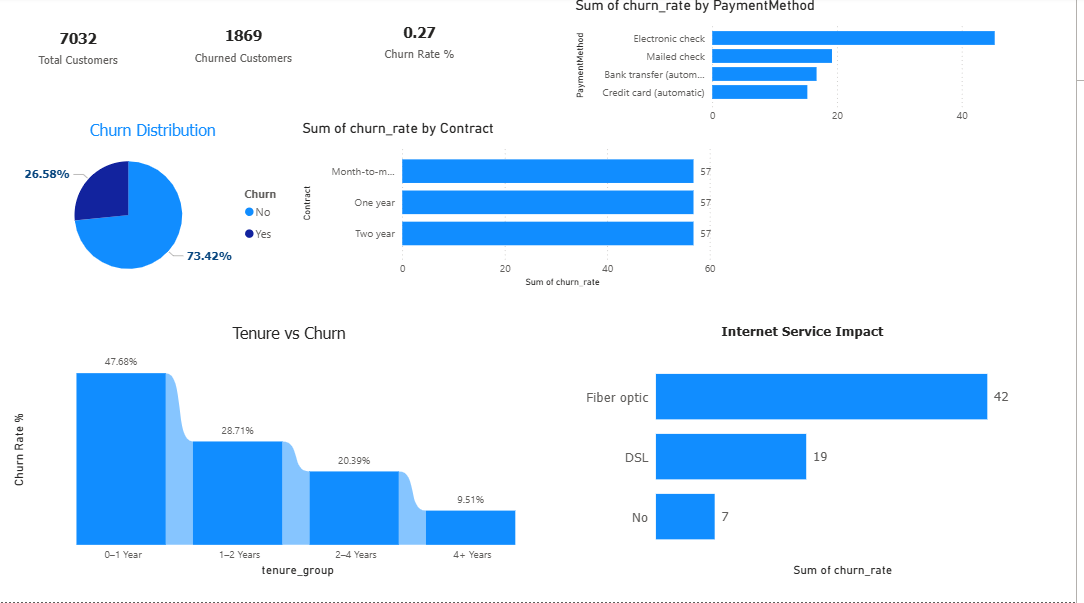

The page's visual inventory and layout, read from the dashboard file:
{"tool":"powerbi","page":{"name":"Page 1","canvas":[1280,720],"ordinal":0},"visuals":[{"type":"card","fields":{"Values":["telecom_analytics vw_customer_churn_clean.Total Customers"]},"box":[0,3.9,185.8,110.9],"z":0},{"type":"card","fields":{"Values":["telecom_analytics vw_customer_churn_clean.Churn Rate %"]},"box":[396.8,3.9,203.3,96.3],"z":1000},{"type":"card","fields":{"Values":["telecom_analytics vw_customer_churn_clean.Churned Customers"]},"box":[181.9,3.9,215,105],"z":2000},{"type":"pieChart","title":"Churn Distribution","fields":{"Category":["telecom_analytics vw_customer_churn_clean.Churn"],"Y":["CountNonNull(telecom_analytics vw_customer_churn_clean.customerID)"]},"box":[9.7,145.9,344.3,203.3],"z":2001},{"type":"clusteredBarChart","fields":{"Category":["telecom_analytics vw_customer_churn_clean.Contract"],"Y":["Sum(telecom_analytics vw_churn_by_contract.churn_rate)"]},"box":[354.5,146.3,517.5,203.4],"z":2002},{"type":"columnChart","title":"Tenure vs Churn","fields":{"Category":["telecom_analytics vw_customer_churn_clean.tenure_group"],"Y":["telecom_analytics vw_customer_churn_clean.Churn Rate %"]},"box":[9.5,387.8,668.6,306.9],"z":2003},{"type":"clusteredBarChart","title":"Internet Service Impact","fields":{"Category":["telecom_analytics vw_churn_by_internet_service.InternetService"],"Y":["Sum(telecom_analytics vw_churn_by_internet_service.churn_rate)"]},"box":[679.3,387.8,550.8,306.9],"z":2004},{"type":"clusteredBarChart","fields":{"Category":["telecom_analytics vw_churn_by_payment_method.PaymentMethod"],"Y":["Sum(telecom_analytics vw_churn_by_payment_method.churn_rate)"]},"box":[679,0,551,159.5],"z":2005}]}

Visuals, with their boxes in screenshot pixels (x1, y1, x2, y2), scaled from the page's 1280x720 canvas onto the 1084x603 screenshot:
card - telecom_analytics vw_customer_churn_clean.Total Customers: select_region(0, 3, 157, 96)
card - telecom_analytics vw_customer_churn_clean.Churn Rate %: select_region(336, 3, 508, 84)
card - telecom_analytics vw_customer_churn_clean.Churned Customers: select_region(154, 3, 336, 91)
"Churn Distribution" pieChart: select_region(8, 122, 300, 292)
clusteredBarChart - telecom_analytics vw_customer_churn_clean.Contract x Sum(telecom_analytics vw_churn_by_contract.churn_rate): select_region(300, 123, 738, 293)
"Tenure vs Churn" columnChart: select_region(8, 325, 574, 582)
"Internet Service Impact" clusteredBarChart: select_region(575, 325, 1042, 582)
clusteredBarChart - telecom_analytics vw_churn_by_payment_method.PaymentMethod x Sum(telecom_analytics vw_churn_by_payment_method.churn_rate): select_region(575, 0, 1042, 134)
